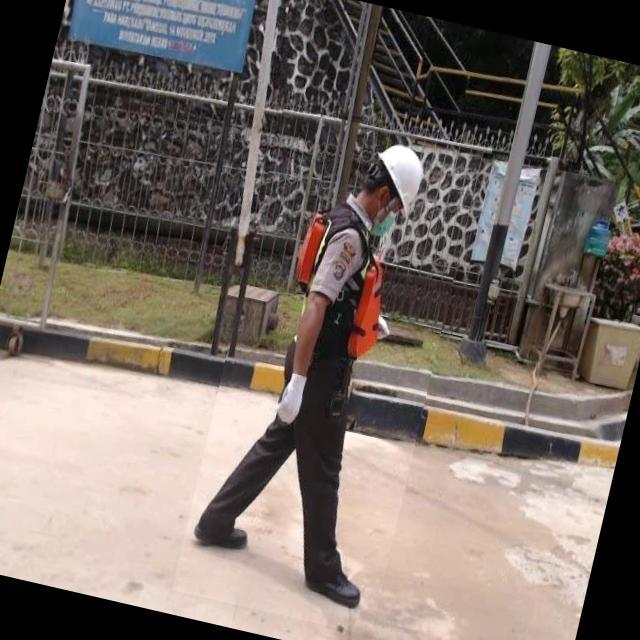Helmet: (360, 138, 427, 225)
Human: (171, 106, 482, 637)
Safety Boot: (295, 562, 369, 621), (189, 516, 254, 560)
Safety Vest: (275, 206, 409, 379)
